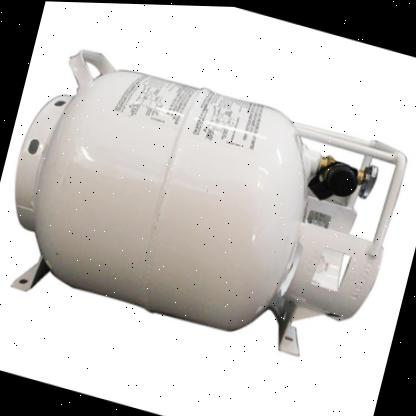gas-tank: (0, 9, 415, 400)
